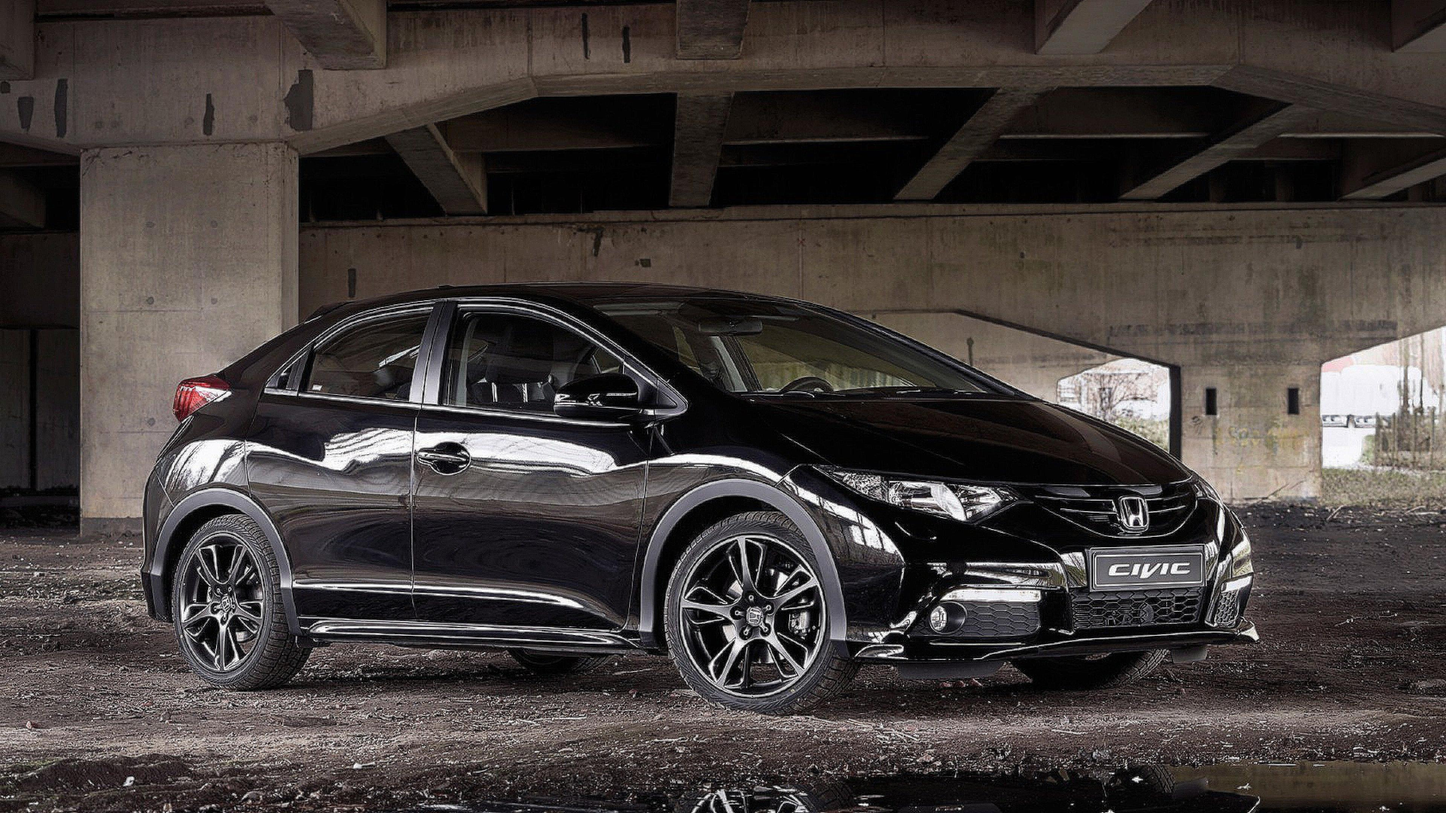Car hood: (746, 388, 1204, 492)
Driver-s door - -F-R-: (412, 291, 641, 636)
Fender - -F-R-: (627, 369, 811, 644)
Fender - -R-R-: (155, 384, 242, 512)
Front bumper: (783, 476, 1276, 678)
Headlight - -L-: (1178, 454, 1240, 512)
Headlight - -R-: (810, 457, 1023, 527)
Passenger-s door - -R-R-: (239, 294, 411, 637)
Rear bumper: (129, 482, 178, 622)
Rear light - -R-: (162, 367, 237, 427)
Side bumper - -R-: (275, 610, 679, 660)
Side mirror - -R-: (544, 365, 654, 435)
